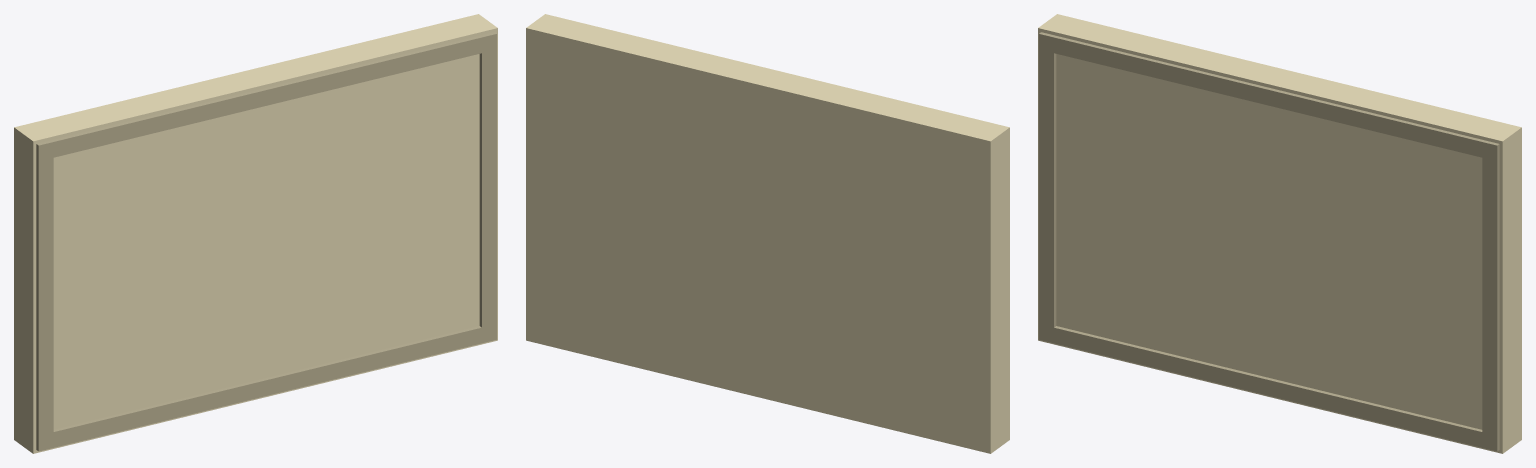
Rendered from sign_birch_wall.gltf.
3 renders of one model, left to right at view 1: azimuth 30°, elevation 25°; view 2: azimuth 150°, elevation 25°; view 3: azimuth 330°, elevation 25°, orthographic.
Parts seen in each view (by area): view 1: sign_birch_wall; view 2: sign_birch_wall; view 3: sign_birch_wall.
Boxes of the visible parts, x1,y1,x2,y2 form: sign_birch_wall: (14,14,497,453); sign_birch_wall: (526,14,1009,453); sign_birch_wall: (1038,14,1521,453).
Size of the model in its own units: 0.875 by 0.5625 by 0.07.
